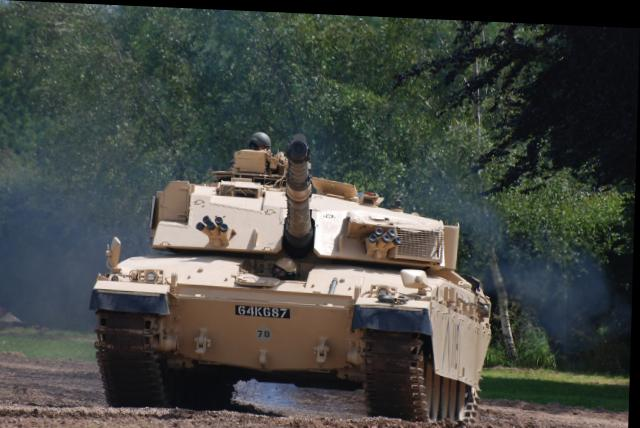tank: (85, 120, 499, 420)
